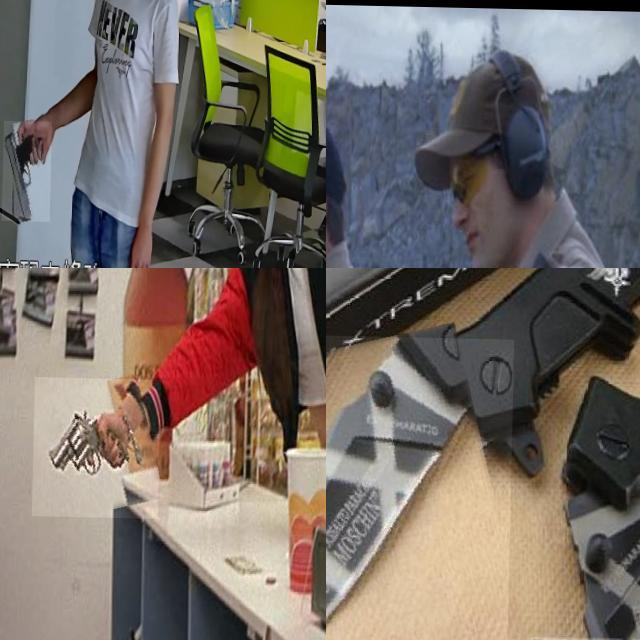-: (326, 332, 515, 640)
gun-knife-thesis - v11 Yolov5 augmented: (34, 377, 162, 518), (326, 172, 385, 268), (4, 120, 54, 220)
